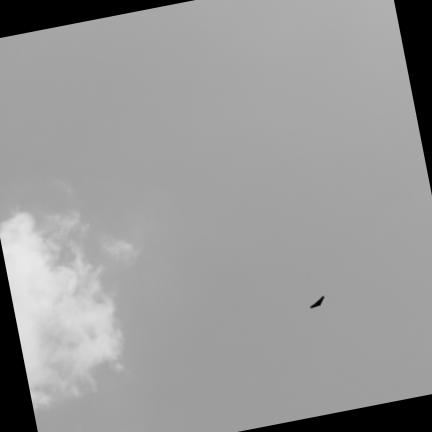Shahed: (311, 296, 324, 308)
